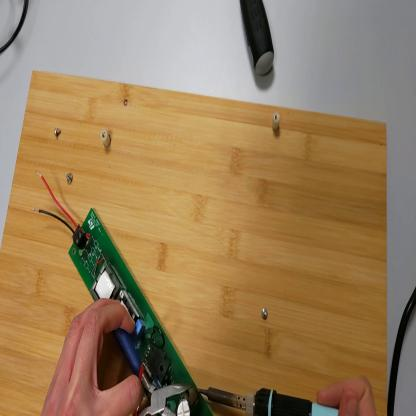hand: (43, 299, 143, 415), (318, 372, 378, 415)
high voltage board: (32, 170, 215, 416)
screwdriver-: (242, 4, 278, 74)
welder probe tip: (199, 387, 339, 415)
working area: (3, 74, 387, 416)
